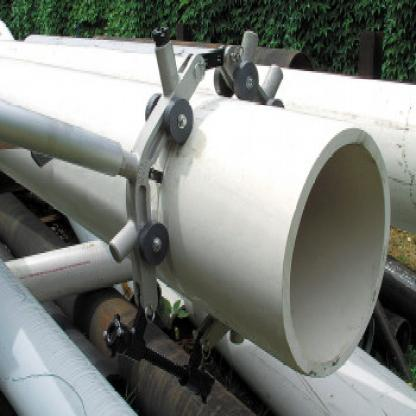PVC: (2, 57, 391, 376), (1, 37, 415, 229), (0, 190, 260, 414), (0, 262, 139, 414), (217, 329, 414, 414), (2, 246, 118, 377), (3, 98, 122, 179), (5, 240, 136, 301), (23, 33, 217, 56), (370, 300, 415, 384), (381, 258, 415, 324), (379, 300, 409, 355)
